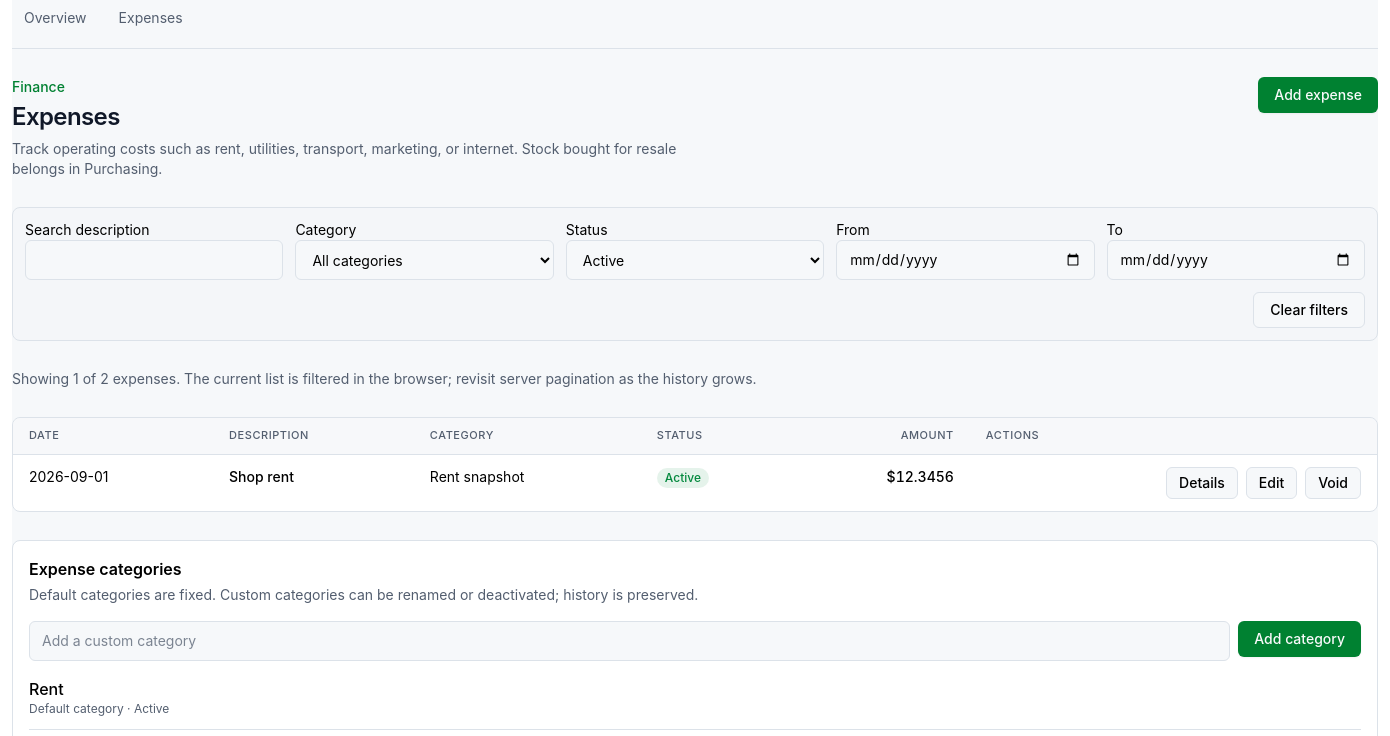
Test: Finance expense management › filters expenses and clears filters
Select "All" in the dropdown labelled "Status" at [695, 260], box top-left (566, 240), bottom-right (824, 280)
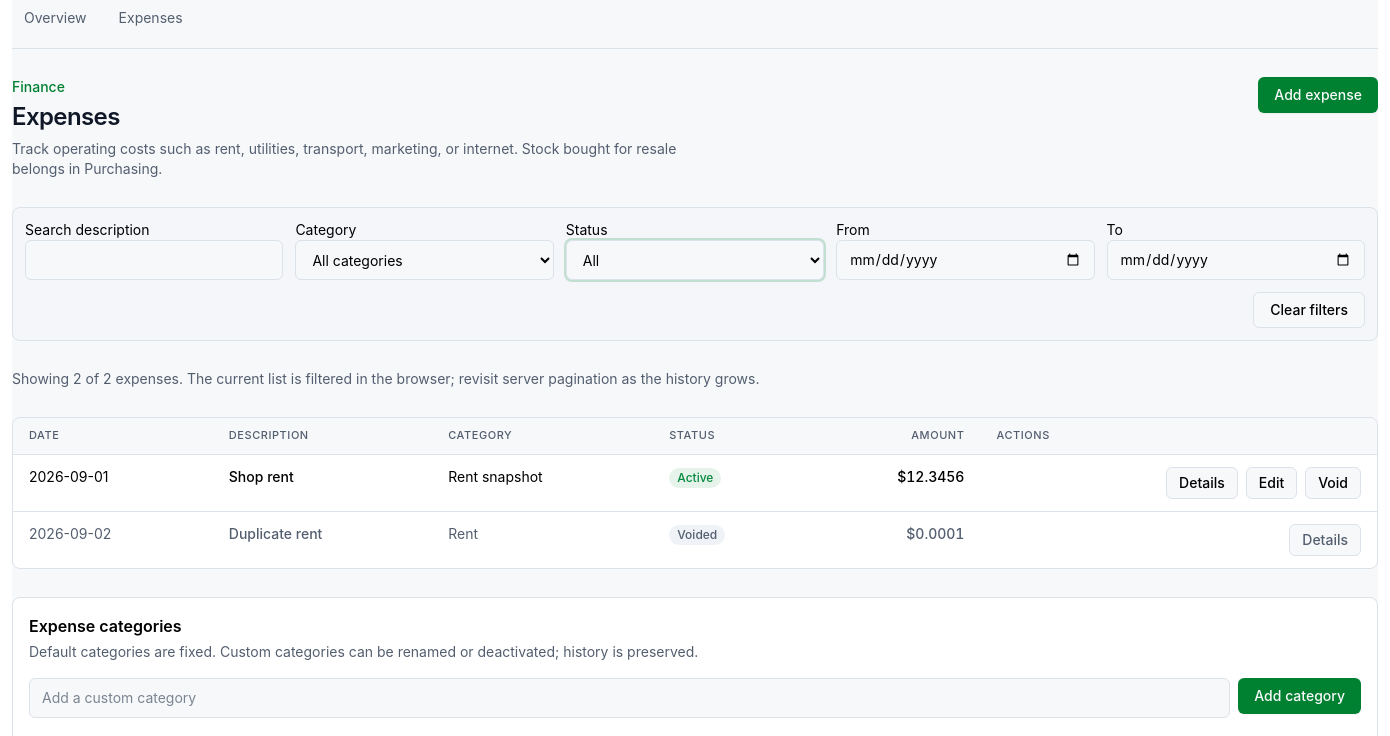
Type "duplicate" into the search field labelled "Search description" at [154, 260], box top-left (25, 240), bottom-right (283, 280)
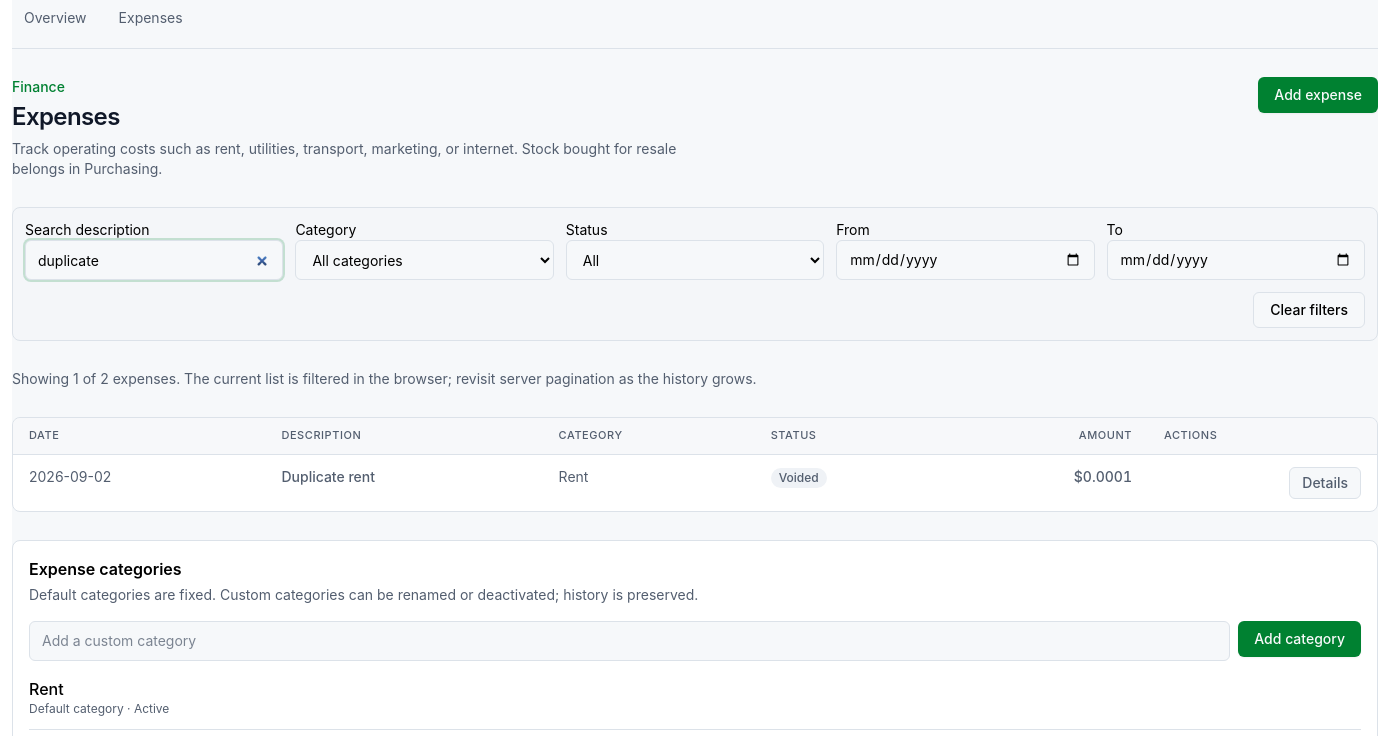
Expected: the text "Duplicate rent" is shown, top-left (282, 468), bottom-right (375, 485)
Expected: the text "Shop rent" is not shown
Click the button "Clear filters" at [1309, 310], box top-left (1253, 292), bottom-right (1365, 328)
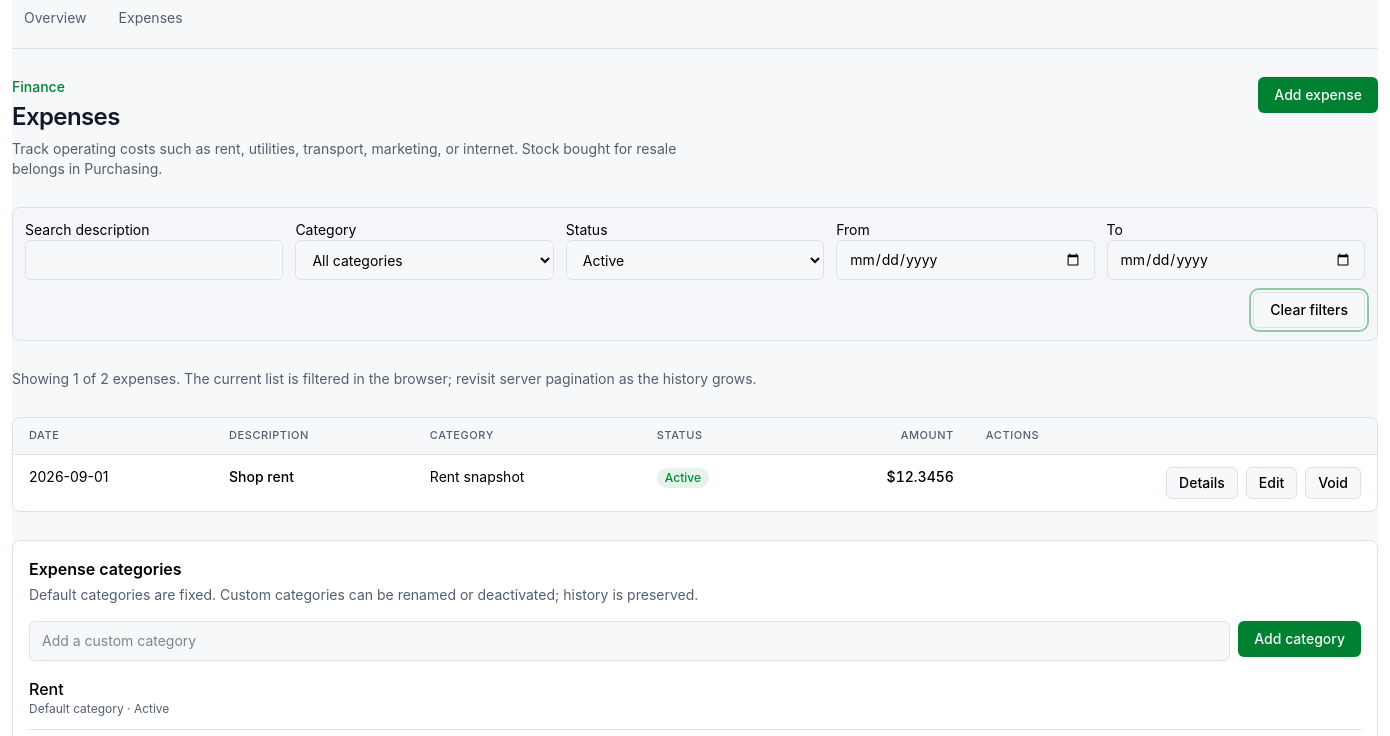
Expected: the text "Shop rent" is shown, top-left (229, 468), bottom-right (294, 485)
